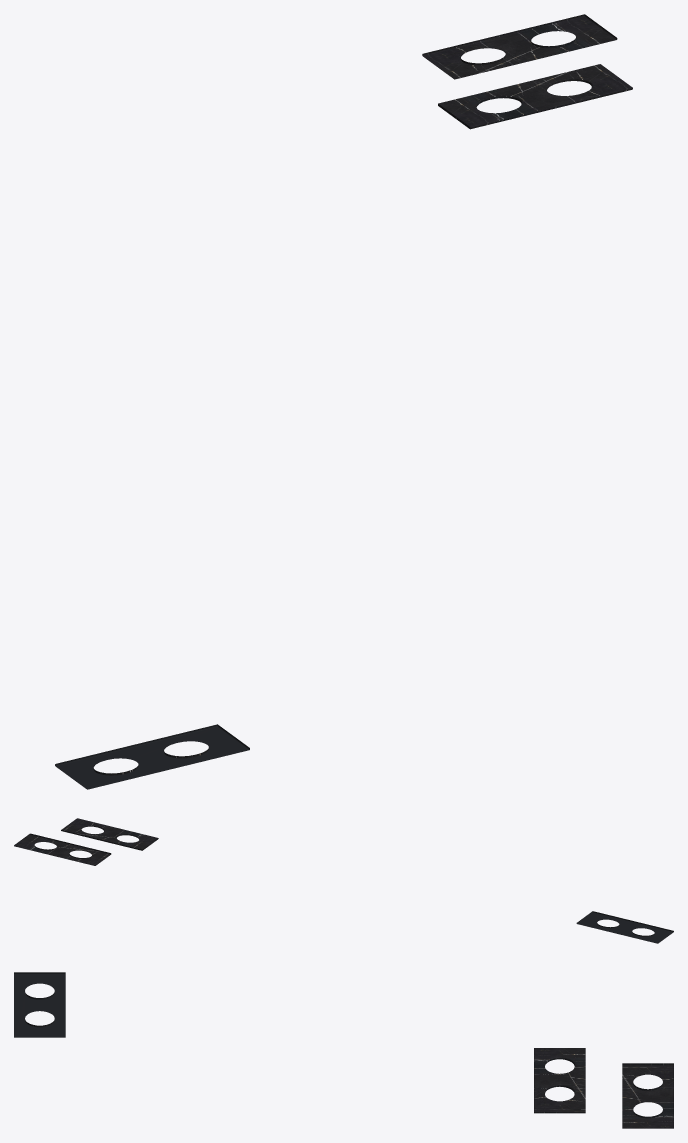
The model's file is Countertops_Quartz_Et_Noir.glb.
3 renders of one model, top to bottom at view 1: azimuth 30°, elevation 25°; view 2: azimuth 150°, elevation 25°; view 3: azimuth 270°, elevation 25°, orthographic. The views are drawn at different scales.
Parts seen in each view (by area): view 1: Bathroom_Counter_tops_Quartz_Et_noir_2345; view 2: Bathroom_Counter_tops_Quartz_Et_noir_2345; view 3: Bathroom_Counter_tops_Quartz_Et_noir_2345.
Boxes of the visible parts, x1=… form: Bathroom_Counter_tops_Quartz_Et_noir_2345: x1=55, y1=14, x2=632, y2=789; Bathroom_Counter_tops_Quartz_Et_noir_2345: x1=14, y1=818, x2=673, y2=943; Bathroom_Counter_tops_Quartz_Et_noir_2345: x1=14, y1=972, x2=673, y2=1128.
Size of the model in its own units: 16.21 by 4.31 by 12.7.
Materials: 1 (1 with a texture image).
